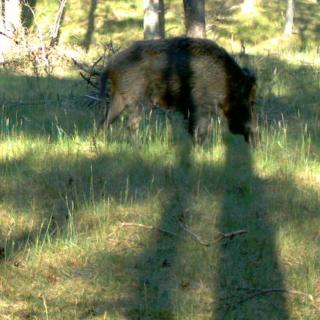Pig: (78, 32, 274, 154)
